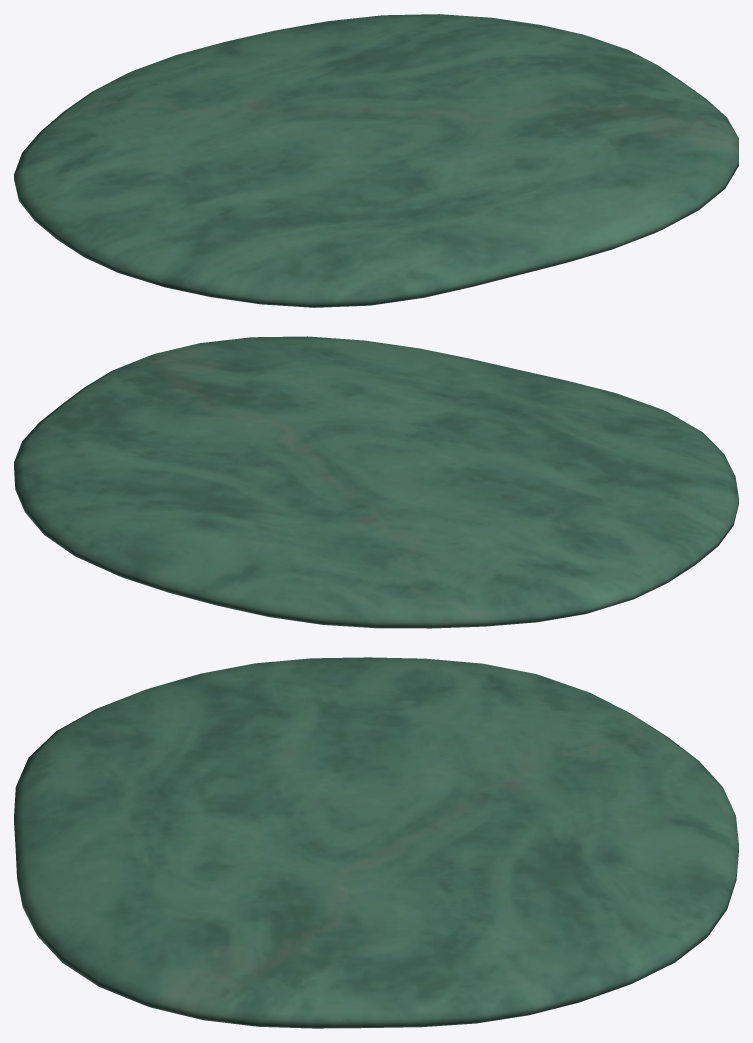
Rendered from jade_river_flat_01.glb.
3 renders of one model, top to bottom at view 1: azimuth 30°, elevation 25°; view 2: azimuth 150°, elevation 25°; view 3: azimuth 270°, elevation 25°, orthographic. The views are drawn at different scales.
Visible parts, largest first — view 1: jade_river_flat_01; view 2: jade_river_flat_01; view 3: jade_river_flat_01.
Boxes of the visible parts, x1,y1,x2,y2 form: jade_river_flat_01: (14, 14, 738, 307); jade_river_flat_01: (14, 336, 738, 628); jade_river_flat_01: (14, 657, 738, 1028).
Size of the model in its own units: 0.0877 by 0.00679 by 0.0742.
1 material, 1 textured.
